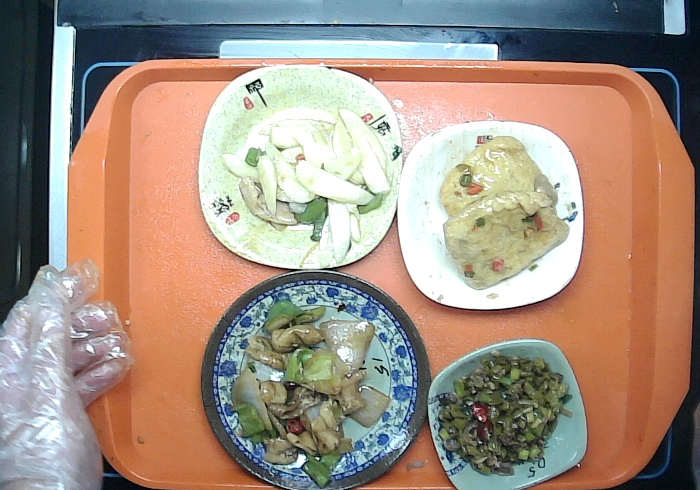NLDX-Bai_Se_Xiao_Fang_Die: (395, 118, 586, 312)
NLDX-Fu_Zi_Fang_Die: (197, 62, 403, 271)
NLDX-Qing_Hua_Xiao_Fang_Die: (426, 337, 589, 490)
NLDX-Qing_Hua_Yuan_Die: (198, 267, 432, 490)
